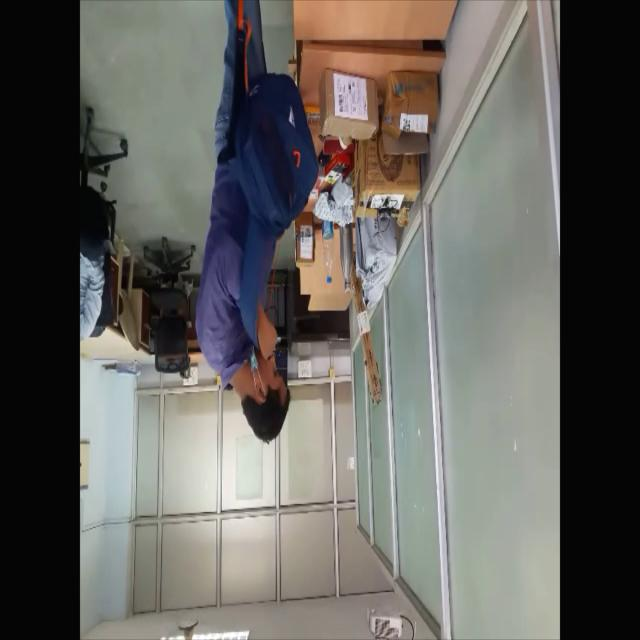normal: (194, 0, 325, 450)
